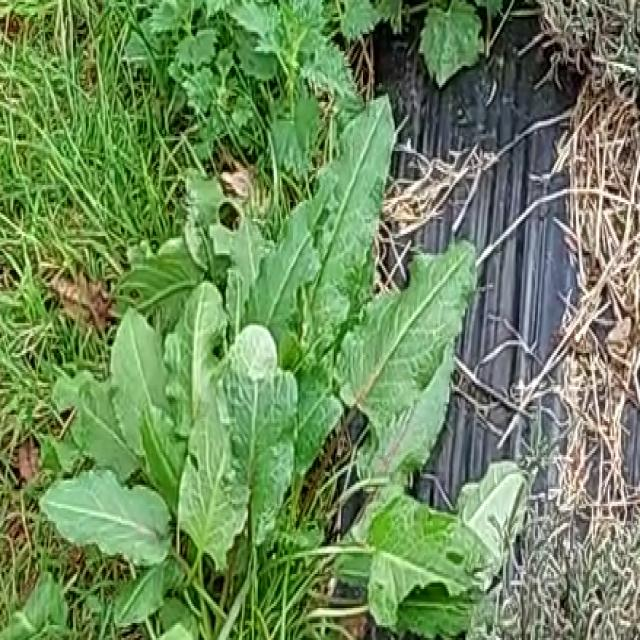organic waste: (52, 140, 476, 619)
